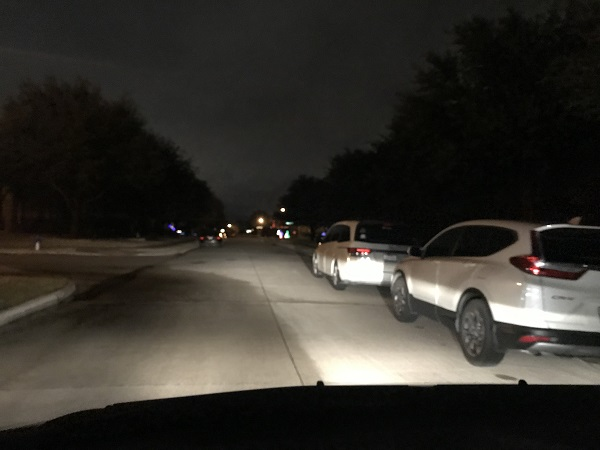car: (391, 213, 600, 368), (309, 219, 415, 291), (196, 227, 230, 248)
